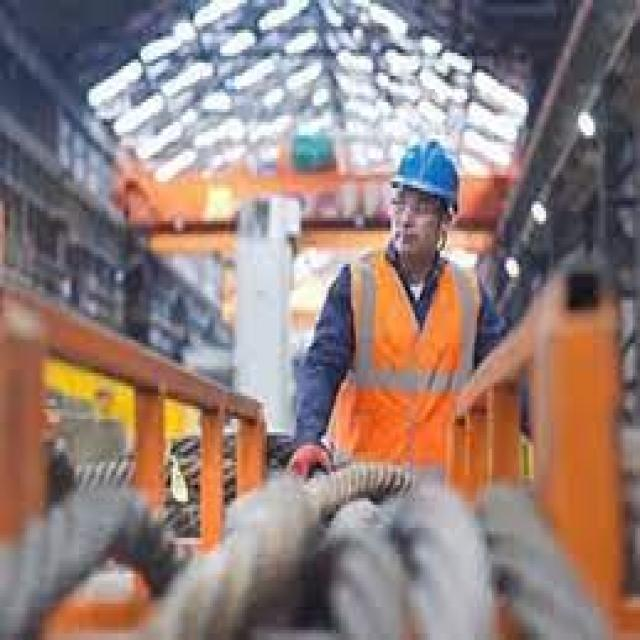Reflective-Jacket: (321, 238, 494, 502)
Safety-Helmet: (376, 126, 480, 224)
